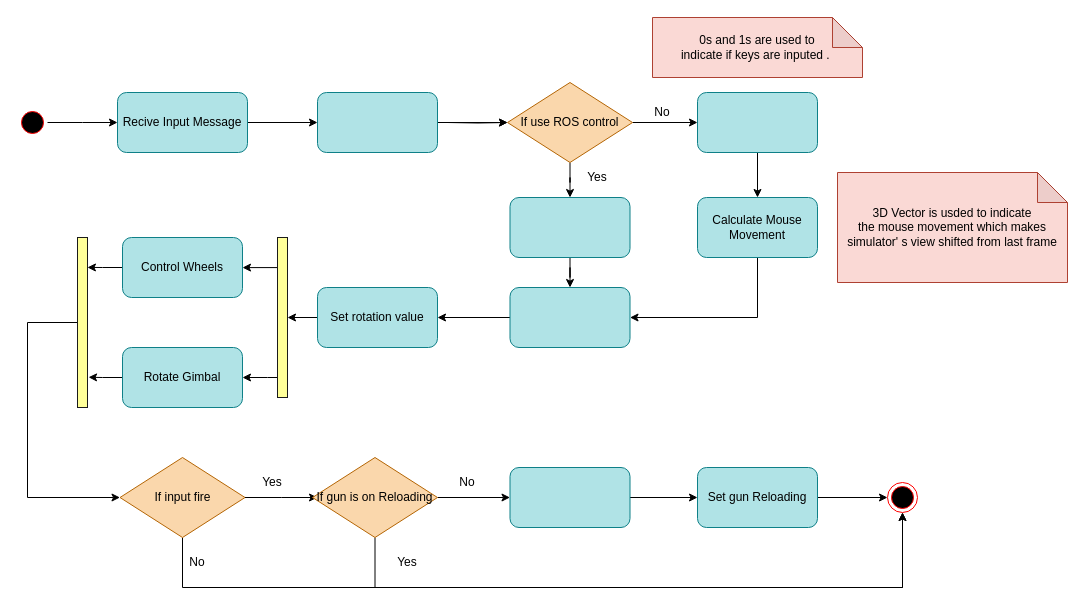
Image size: 1085x613. Some labels were removed from this diagram. Each missing label, with the centre of its shape:
"Generate Keyboard Input" goes at point (757, 122).
"Handle Input" goes at point (377, 122).
"Set offset value" goes at point (569, 317).
"Spawn Bullet Obeject" goes at point (569, 497).
"Subscribe message" goes at point (569, 227).
